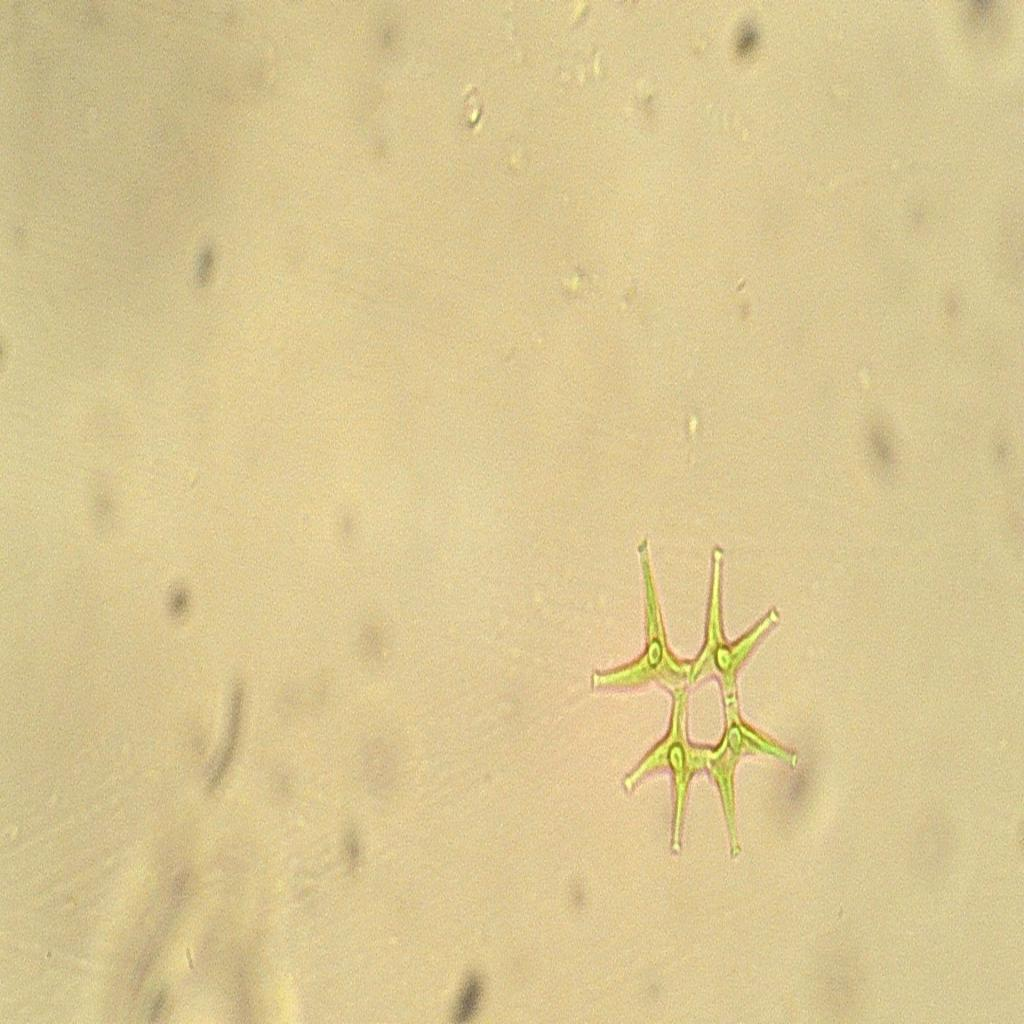Pediastrum_CT: (588, 532, 814, 870)
